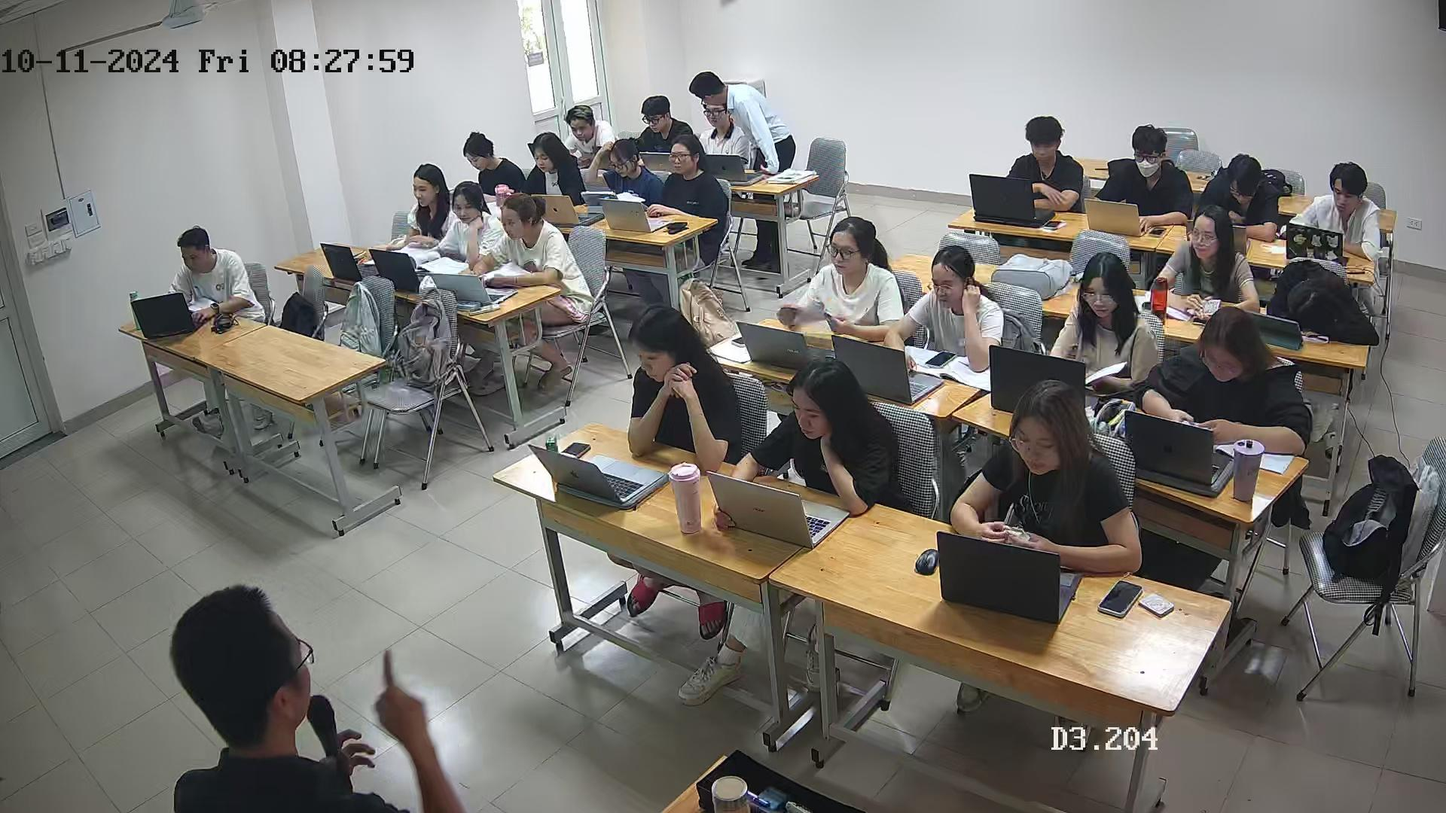Look Around: (1184, 209, 1239, 270)
Stand Up: (737, 81, 800, 178)
phone: (1178, 413, 1211, 435)
